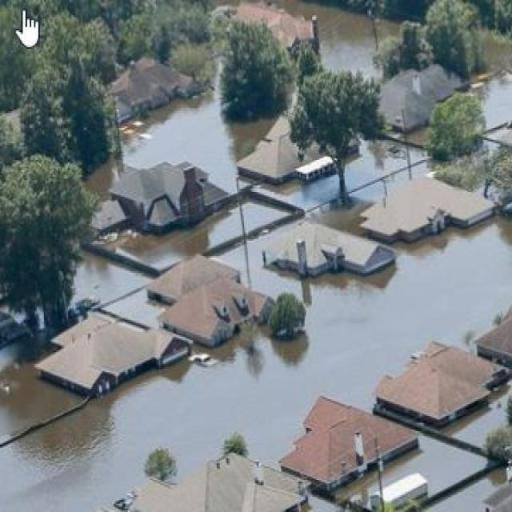flood: (0, 200, 512, 512), (121, 87, 274, 192), (315, 140, 430, 236), (278, 0, 400, 80), (386, 434, 508, 512), (0, 338, 80, 440), (74, 252, 160, 321), (441, 386, 509, 451), (484, 30, 512, 128), (260, 175, 338, 208), (84, 157, 120, 200), (486, 127, 512, 146)
house: (30, 294, 191, 396), (274, 389, 416, 487), (369, 335, 505, 426), (117, 454, 311, 512), (362, 176, 493, 249), (113, 156, 221, 238), (156, 260, 251, 347), (264, 223, 396, 279), (120, 62, 193, 113), (242, 134, 300, 187), (378, 76, 430, 132), (476, 313, 512, 360)
